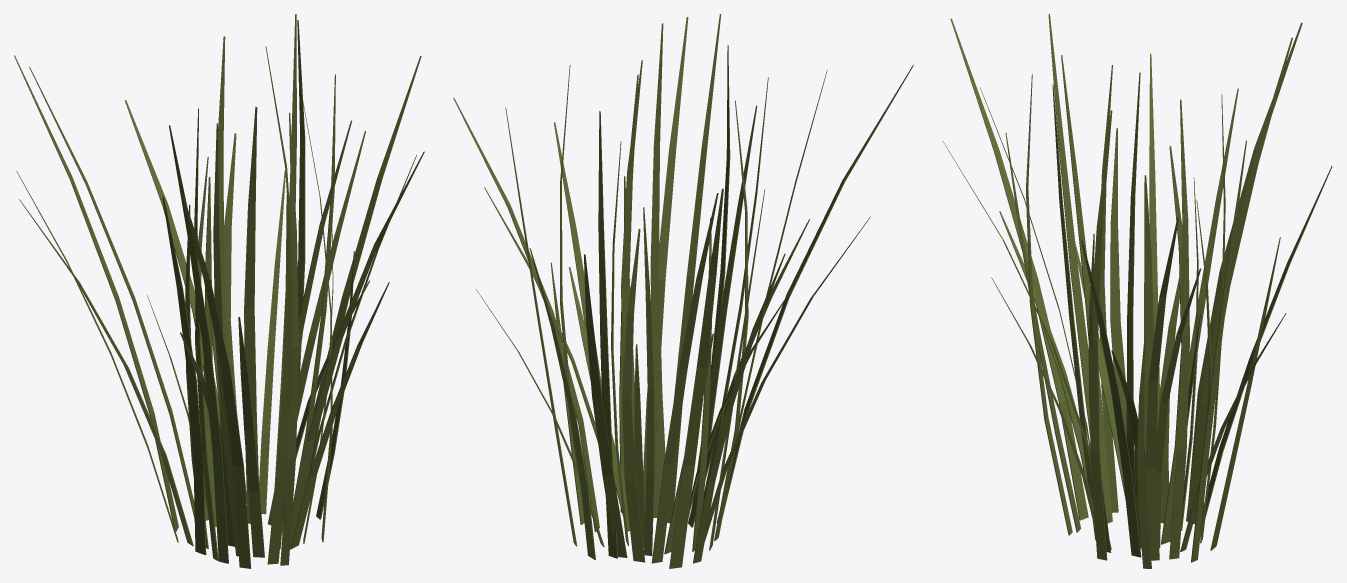
File: plant_010c_ribbon_grass.glb
3 renders of one model, left to right at view 1: azimuth 30°, elevation 25°; view 2: azimuth 150°, elevation 25°; view 3: azimuth 270°, elevation 25°, orthographic. The views are drawn at different scales.
Parts seen in each view (by area): view 1: plant_010c_ribbon_grass__blades; view 2: plant_010c_ribbon_grass__blades; view 3: plant_010c_ribbon_grass__blades.
Part boxes in pixels (x1,y1,x2,y2): plant_010c_ribbon_grass__blades: (14, 14, 424, 568); plant_010c_ribbon_grass__blades: (453, 14, 913, 568); plant_010c_ribbon_grass__blades: (942, 14, 1332, 568).
Size of the model in its own units: 3.19 by 3.58 by 2.69.
